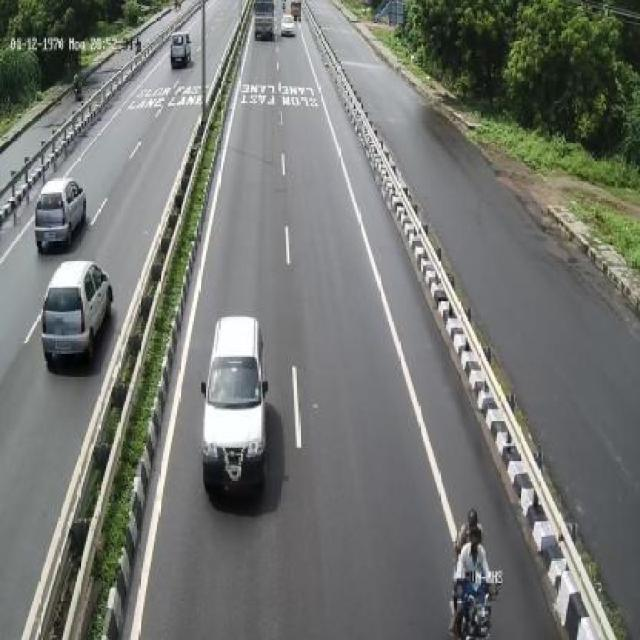car: (201, 306, 274, 505), (42, 252, 112, 371), (38, 177, 88, 254), (164, 31, 196, 69), (277, 11, 295, 43)
